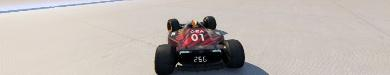Car: (153, 15, 245, 74)
